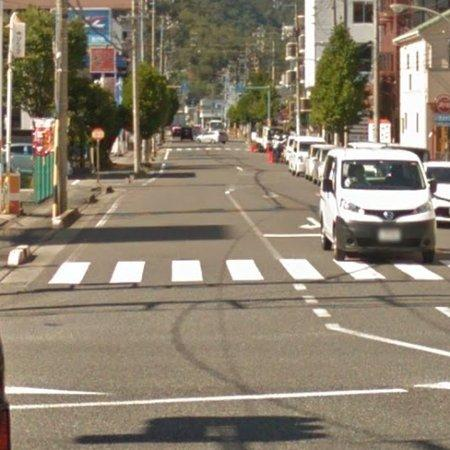crosswalks: (45, 259, 449, 284)
